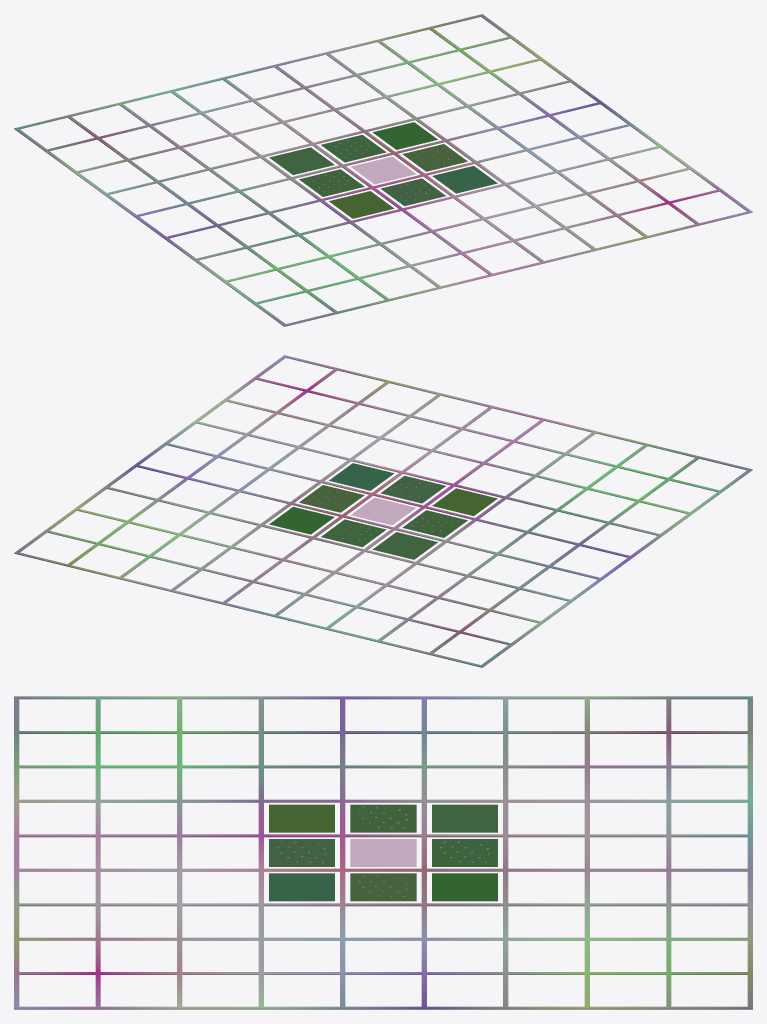
File: ground.glb
3 renders of one model, top to bottom at view 1: azimuth 30°, elevation 25°; view 2: azimuth 150°, elevation 25°; view 3: azimuth 270°, elevation 25°, orthographic. The views are drawn at different scales.
Visible parts, largest first — view 1: geo1; view 2: geo1; view 3: geo1.
Part boxes in pixels (box(x1,y1,x2,y2)): geo1: box(14, 14, 752, 326); geo1: box(14, 355, 752, 667); geo1: box(14, 696, 752, 1009).
Bounding box in the file's own units: 145 × 0.37 × 145.
